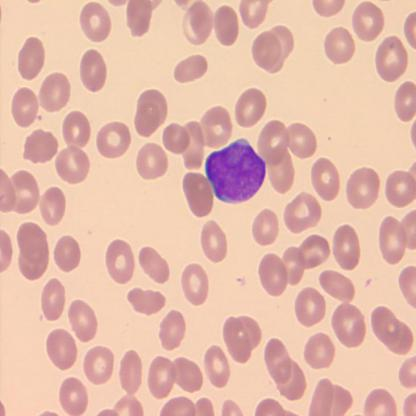Blast: (204, 135, 268, 206)
